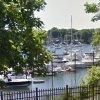Boat: (61, 52, 95, 72)
